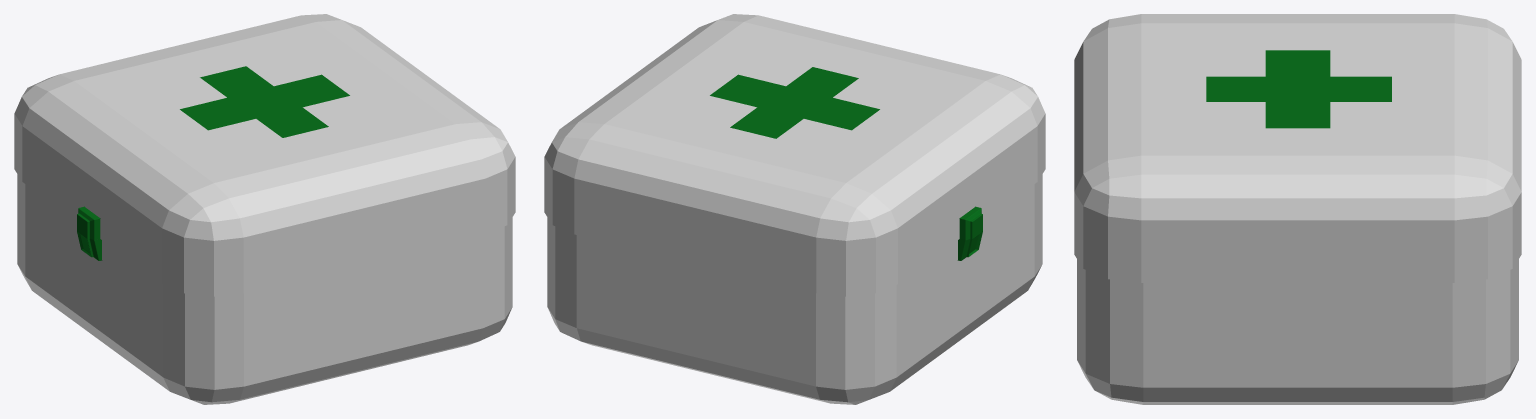
The model's file is firstaid.fbx.
3 views of the same model, side by side, from view 1: azimuth 30°, elevation 25°; view 2: azimuth 150°, elevation 25°; view 3: azimuth 270°, elevation 25° (orthographic). The views are drawn at different scales.
Visible parts, largest first — view 1: Cube; view 2: Cube; view 3: Cube.
Boxes of the visible parts, x1,y1,x2,y2 form: Cube: (14, 14, 515, 404); Cube: (544, 14, 1045, 404); Cube: (1074, 14, 1521, 404).
Bounding box in the file's own units: 208 × 120 × 202.
